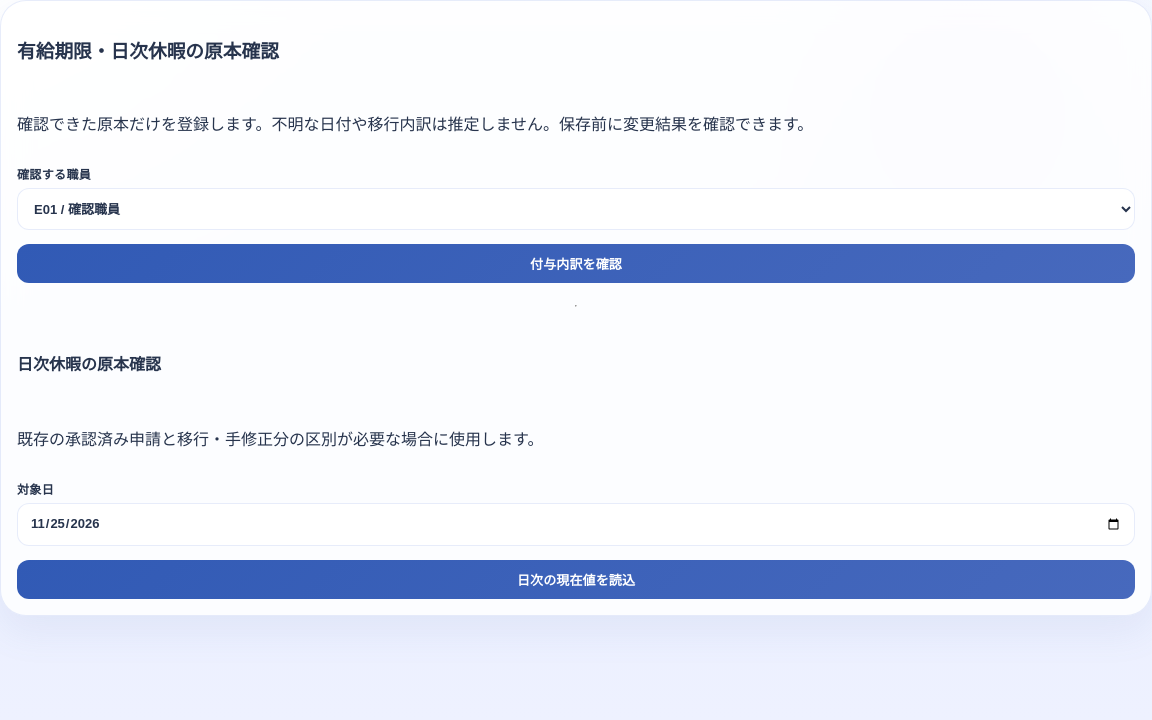
leave source review › shows source validation next to the field and never confirms a failed preview
Click the button "付与内訳を確認" at (576, 264), box [17,244,1135,283]
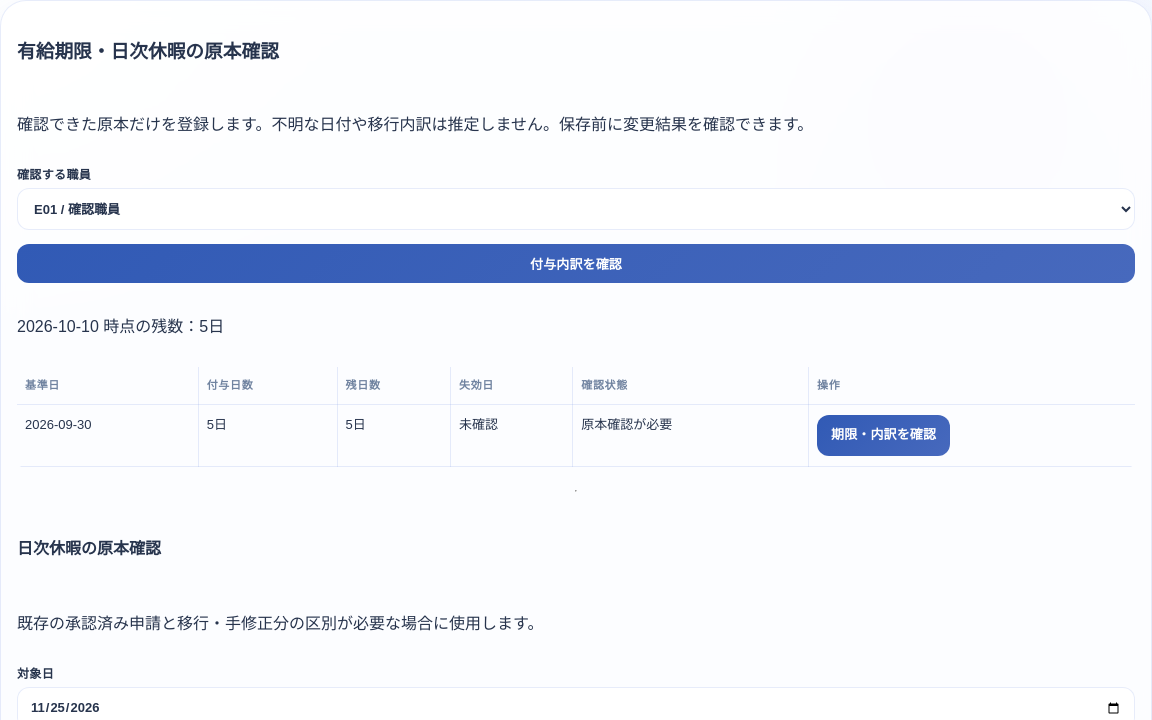
Now the text "原本確認が必要" is shown, box [573,405,809,466]
Click the button "期限・内訳を確認" at (884, 436), box [817,416,950,456]
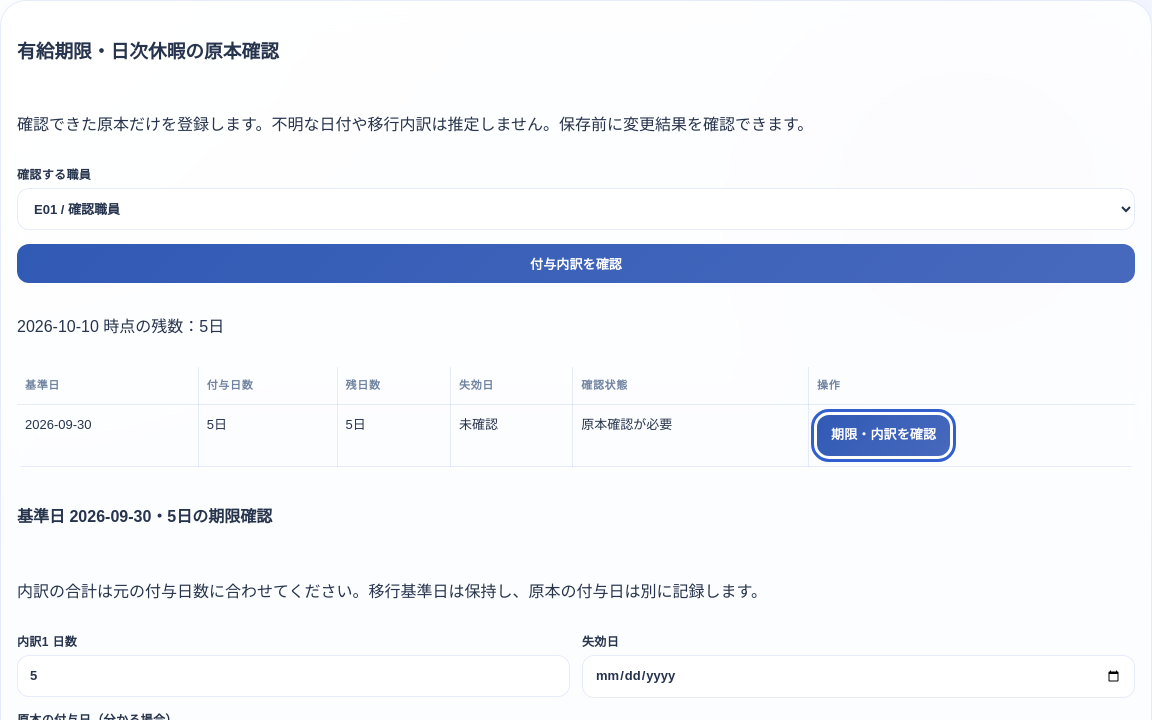
Type "2027-03-31" into the date field labelled "失効日" at (858, 677), box [582,655,1135,698]
(page scrolled)
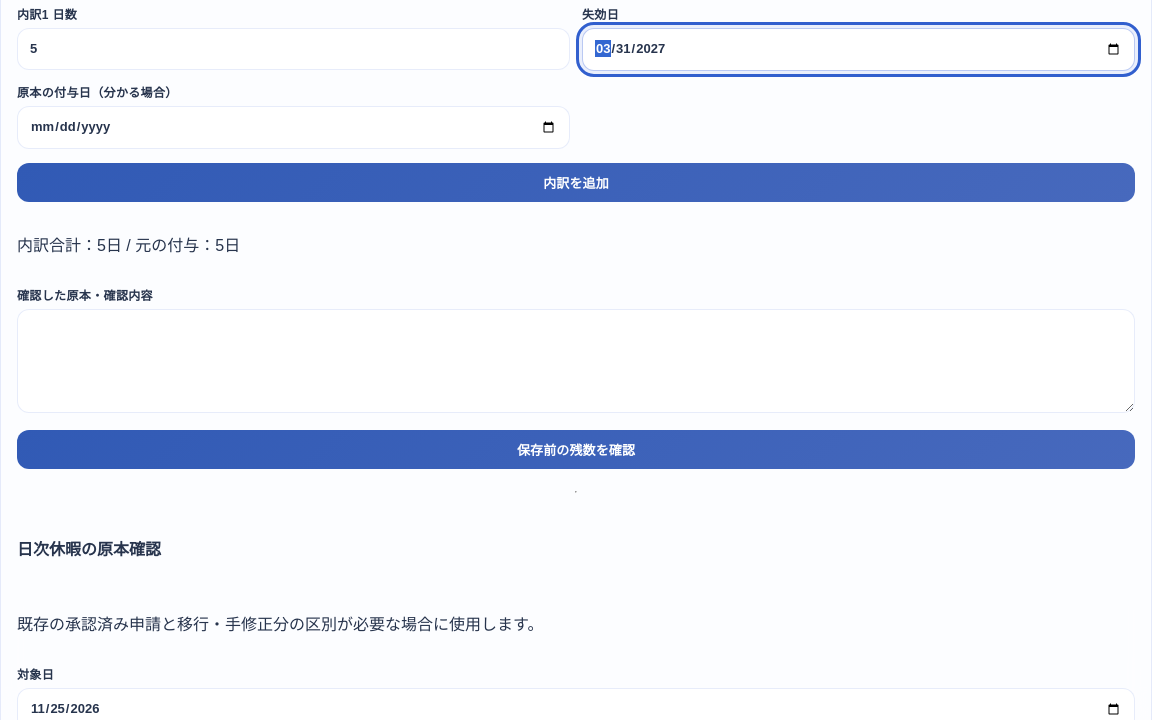
Type "原本" into the text box labelled "確認した原本・確認内容" at (576, 361), box [17,309,1135,413]
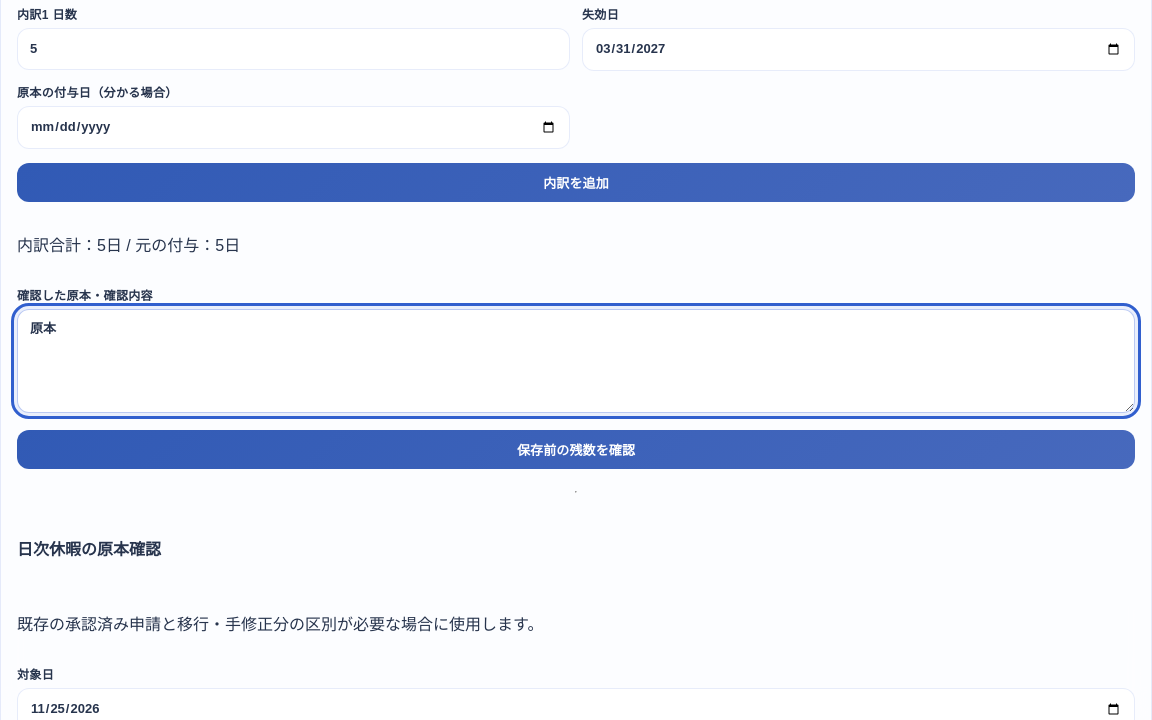
Click the button "保存前の残数を確認" at (576, 449), box [17,430,1135,469]
(page scrolled)
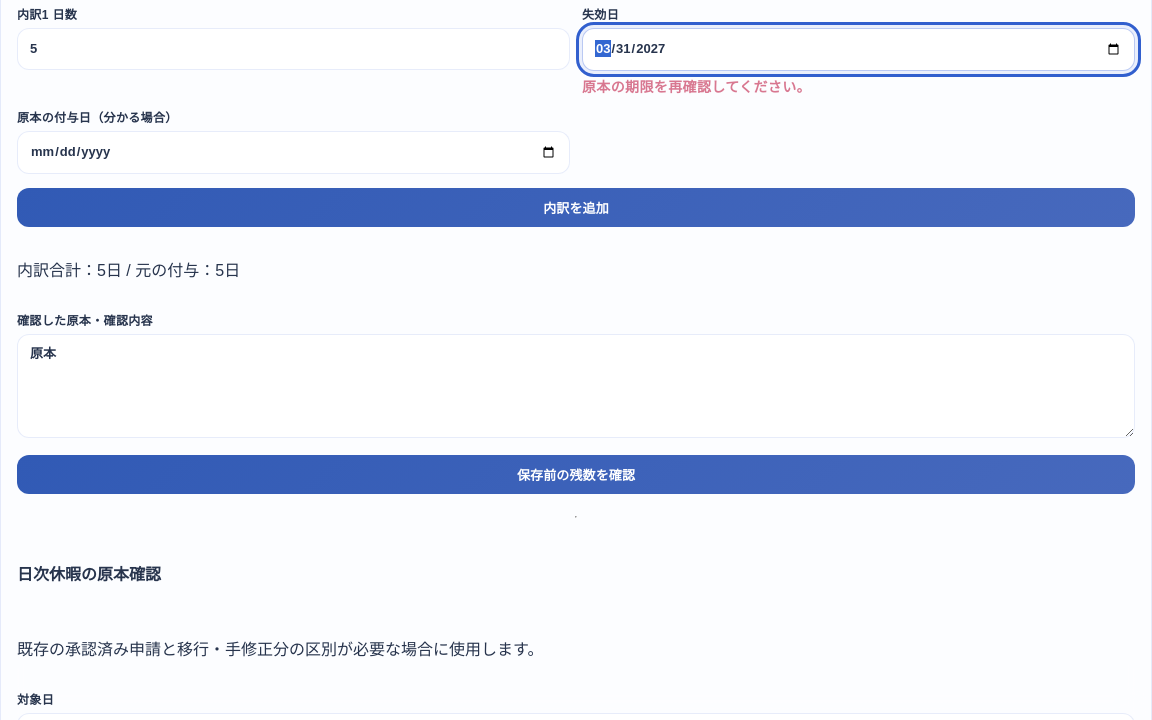
Now the date field labelled "失効日 原本の期限を再確認してください。" is marked as invalid, box [582,28,1135,71]
